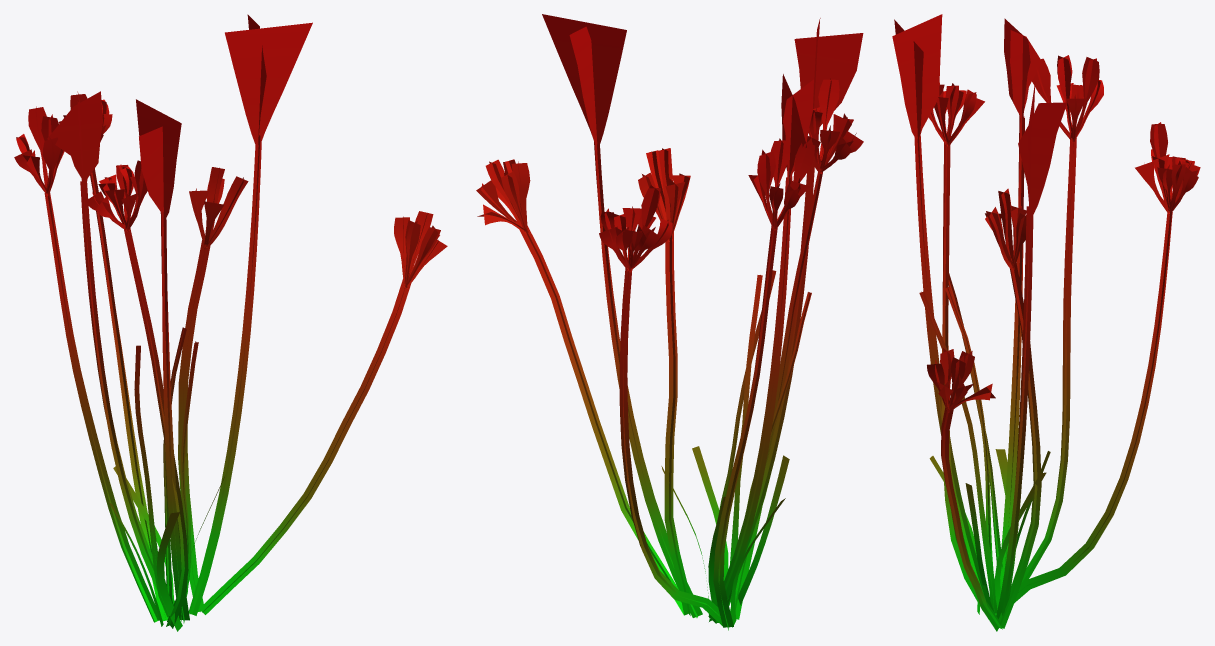
Rendered from Carnation Weed_LOD1_Var8_smdpecor.fbx.
The picture shows the model from 3 angles, left to right: view 1: azimuth 30°, elevation 25°; view 2: azimuth 150°, elevation 25°; view 3: azimuth 270°, elevation 25°; orthographic projection. The views are drawn at different scales.
Parts seen in each view (by area): view 1: _6d56_Var8_LOD1; view 2: _6d56_Var8_LOD1; view 3: _6d56_Var8_LOD1.
Boxes of the visible parts, left/top/right/bottom form: _6d56_Var8_LOD1: left=14, top=14, right=447, bottom=631; _6d56_Var8_LOD1: left=476, top=14, right=863, bottom=630; _6d56_Var8_LOD1: left=892, top=14, right=1200, bottom=631.
Size of the model in its own units: 16.27 by 23.97 by 11.71.
